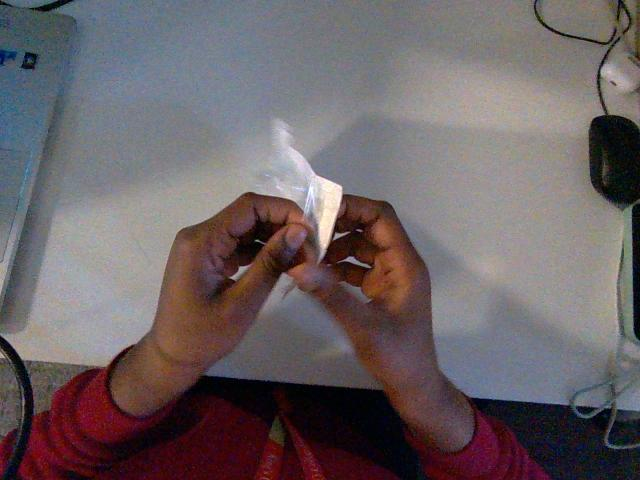gallipot: (262, 120, 341, 260)
